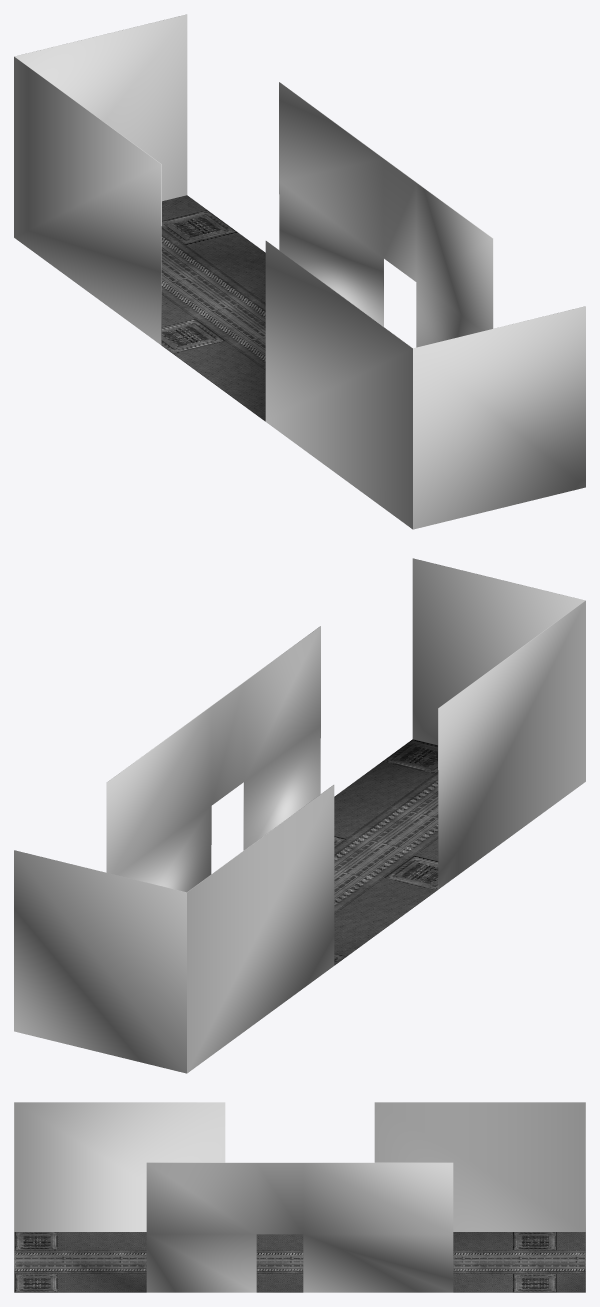
Rendered from corridor_c3.fbx.
3 renders of one model, top to bottom at view 1: azimuth 30°, elevation 25°; view 2: azimuth 150°, elevation 25°; view 3: azimuth 270°, elevation 25°, orthographic. The views are drawn at different scales.
Parts seen in each view (by area): view 1: Corredor C3; view 2: Corredor C3; view 3: Corredor C3.
Part boxes in pixels (x1,y1,x2,y2): Corredor C3: (14, 14, 585, 529); Corredor C3: (14, 558, 585, 1073); Corredor C3: (14, 1102, 585, 1292).
Size of the model in its own units: 361 by 361 by 1443.
